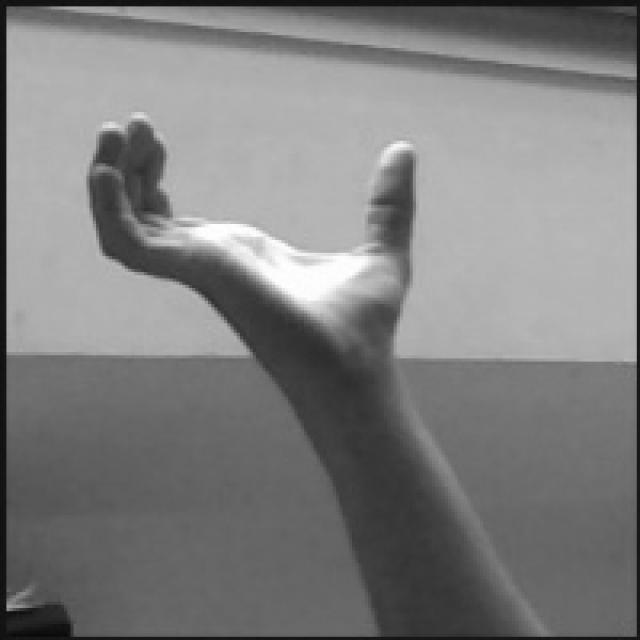space: (86, 106, 418, 358)
